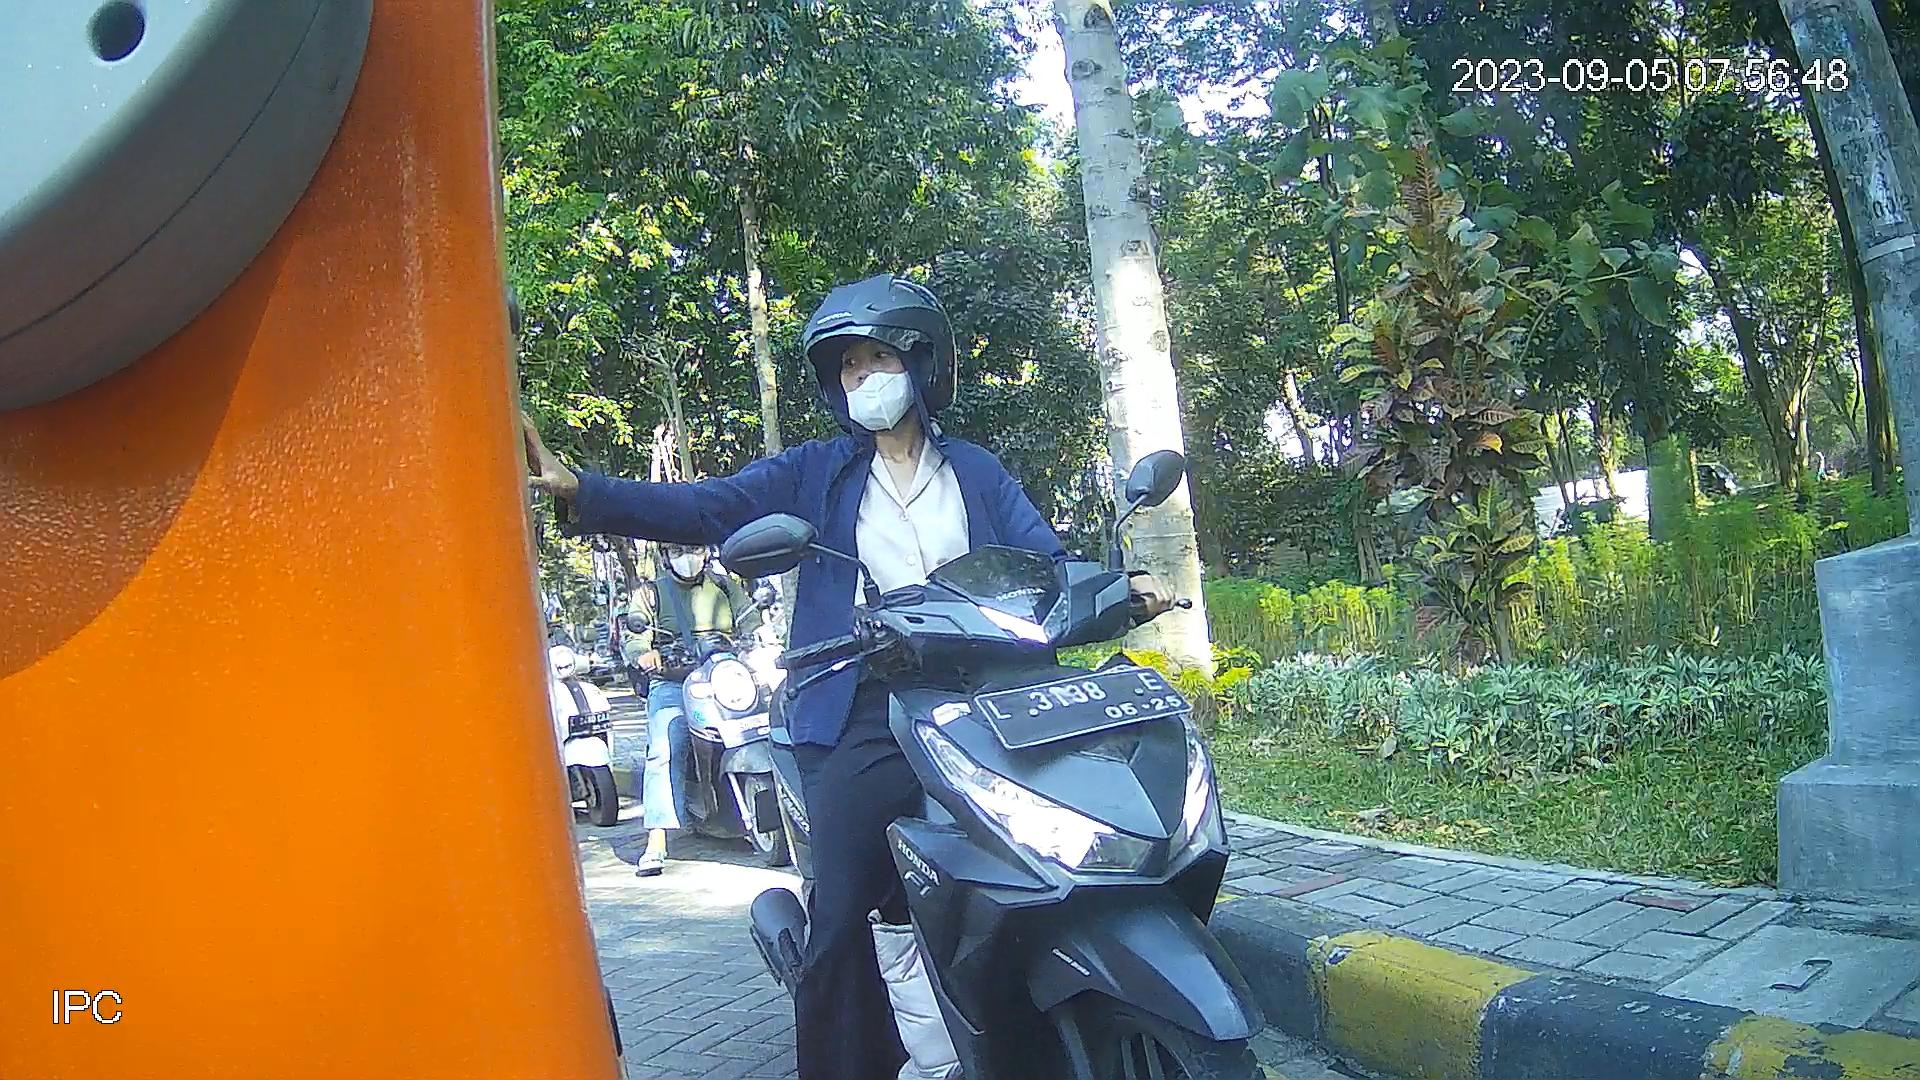plat: (971, 665, 1197, 750)
